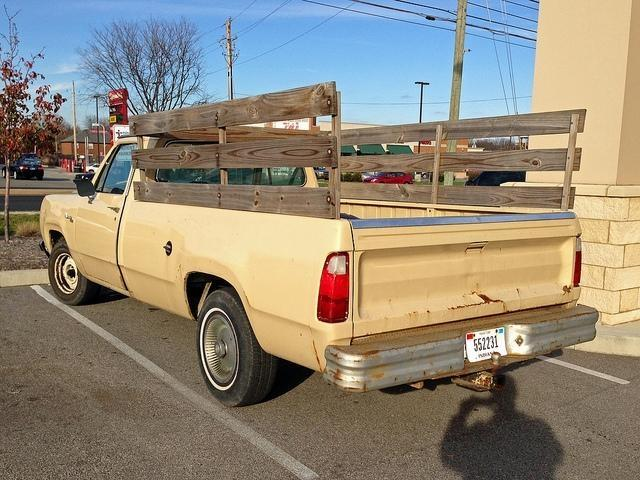car: (1, 158, 44, 180), (364, 171, 414, 184)
truck: (34, 83, 600, 401)
